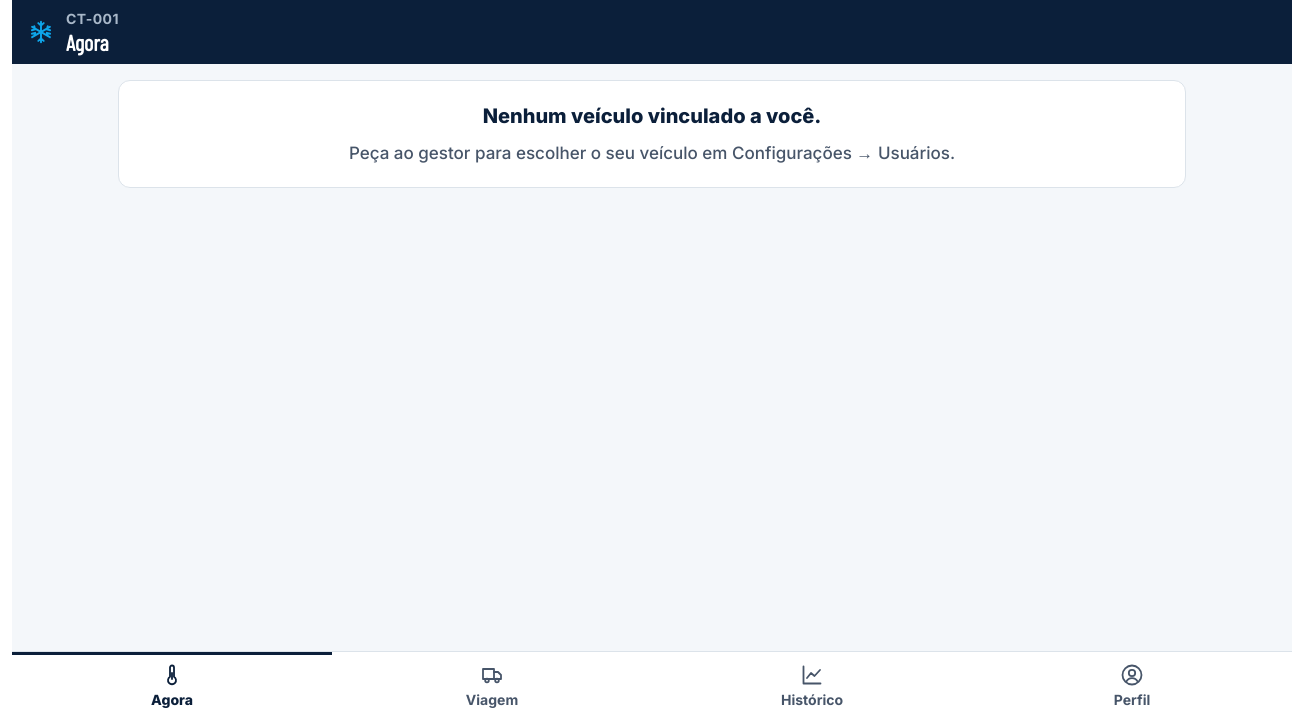
it: Motorista - abas (#80) › sem dados ainda, o Perfil continua acessível (Sair)
Click the button "Perfil": (1132, 686) [972,652,1292,719]
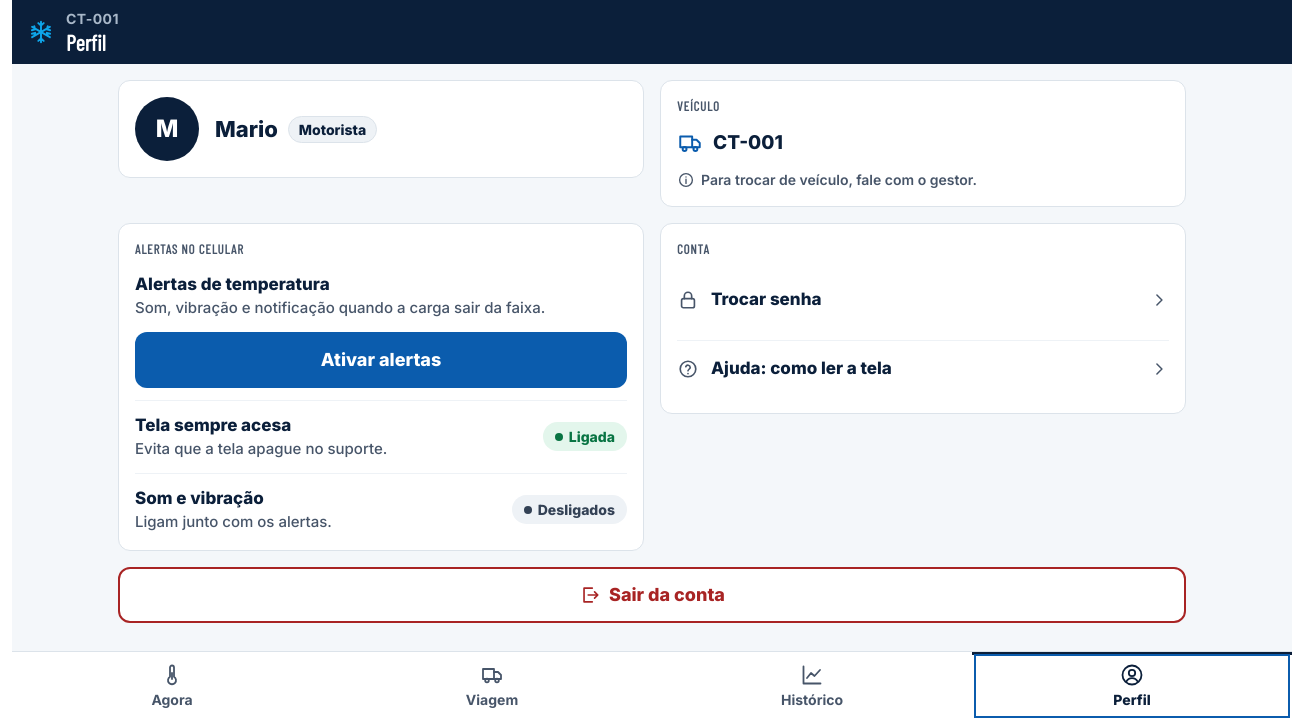
Result: the element with id "estadoMotorista" is gone
Result: the element showing "Veículo CT-001 Para trocar de veículo, fale com o gestor." is shown at [660,80,1186,207]
Result: the button "Sair da conta" is shown at [118,566,1186,622]
